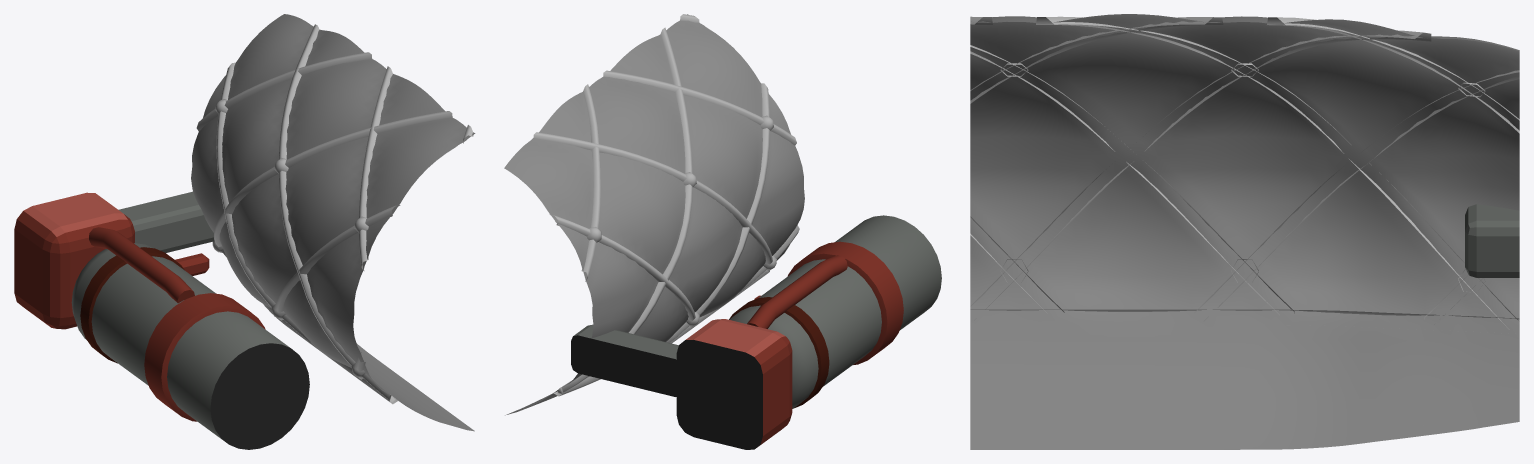
The model's file is zeppelin_77.glb.
The picture shows the model from 3 angles, left to right: view 1: azimuth 30°, elevation 25°; view 2: azimuth 150°, elevation 25°; view 3: azimuth 270°, elevation 25°; orthographic projection. The views are drawn at different scales.
Parts seen in each view (by area): view 1: envelope.001, gun_body.001, net_ropes.001, gun_mount.001, gun_band.001, gun_strut.001, gun_pipe_top.001, gun_band3.001, net_knots.001, gun_rod.001; view 2: envelope.001, gun_body.001, gun_mount.001, net_ropes.001, gun_strut.001, gun_band.001, gun_pipe_top.001, gun_band3.001, net_knots.001, net_load.001; view 3: envelope.001, net_ropes.001, gun_strut.001, net_load.001.
Boxes of the visible parts, left/top/right/bottom form: envelope.001: left=191, top=14, right=475, bottom=431; gun_body.001: left=71, top=243, right=309, bottom=449; net_ropes.001: left=196, top=24, right=473, bottom=402; gun_mount.001: left=14, top=192, right=134, bottom=329; gun_band.001: left=144, top=293, right=265, bottom=421; gun_strut.001: left=118, top=191, right=214, bottom=252; gun_pipe_top.001: left=89, top=227, right=194, bottom=303; gun_band3.001: left=80, top=247, right=184, bottom=363; net_knots.001: left=212, top=99, right=368, bottom=377; gun_rod.001: left=175, top=253, right=209, bottom=275; envelope.001: left=504, top=14, right=804, bottom=415; gun_body.001: left=729, top=215, right=941, bottom=408; gun_mount.001: left=676, top=319, right=792, bottom=449; net_ropes.001: left=533, top=14, right=799, bottom=393; gun_strut.001: left=571, top=324, right=678, bottom=396; gun_band.001: left=787, top=241, right=903, bottom=364; gun_pipe_top.001: left=747, top=255, right=847, bottom=328; gun_band3.001: left=729, top=297, right=829, bottom=408; net_knots.001: left=587, top=115, right=776, bottom=326; net_load.001: left=553, top=270, right=769, bottom=396; envelope.001: left=970, top=14, right=1519, bottom=449; net_ropes.001: left=970, top=16, right=1519, bottom=329; gun_strut.001: left=1465, top=204, right=1519, bottom=277; net_load.001: left=970, top=309, right=1519, bottom=333.
Bounding box in the file's own units: 22.8 × 24.51 × 28.
